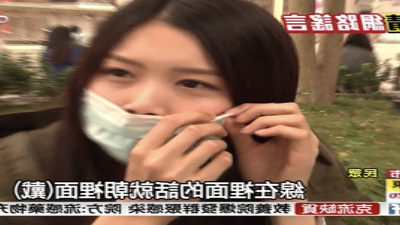mask_weared_incorrect: (75, 47, 231, 169)
